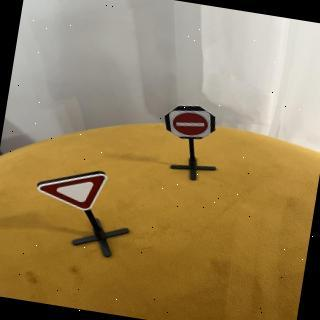sign_noentry: (166, 105, 216, 144)
sign_yield: (36, 164, 115, 216)
